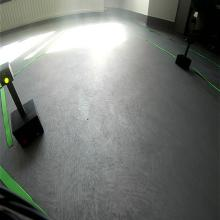green: (0, 61, 14, 87)
